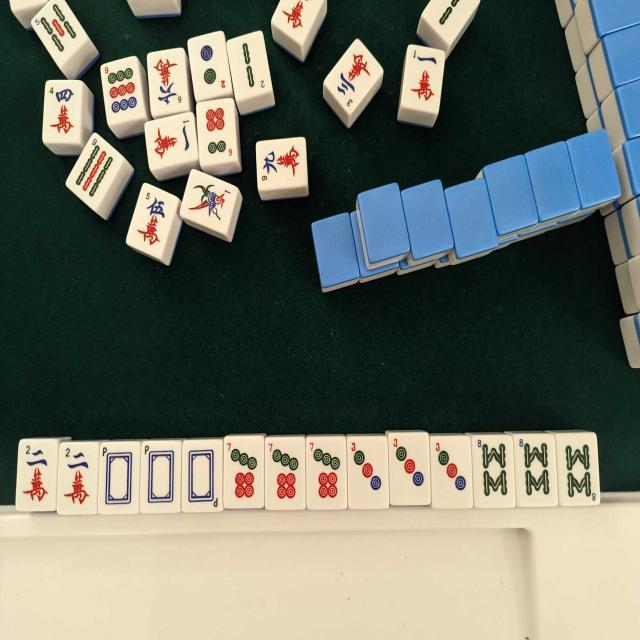hdw: (100, 442, 138, 512), (186, 440, 223, 510), (144, 442, 181, 511)
sb8: (153, 139, 194, 208), (473, 434, 513, 504), (514, 438, 554, 506)
sc2: (58, 442, 98, 512), (15, 444, 54, 514)
sd3: (388, 434, 430, 504), (348, 438, 388, 506), (432, 437, 472, 505)
sd7: (266, 438, 306, 508), (224, 438, 264, 508), (308, 438, 347, 508)
